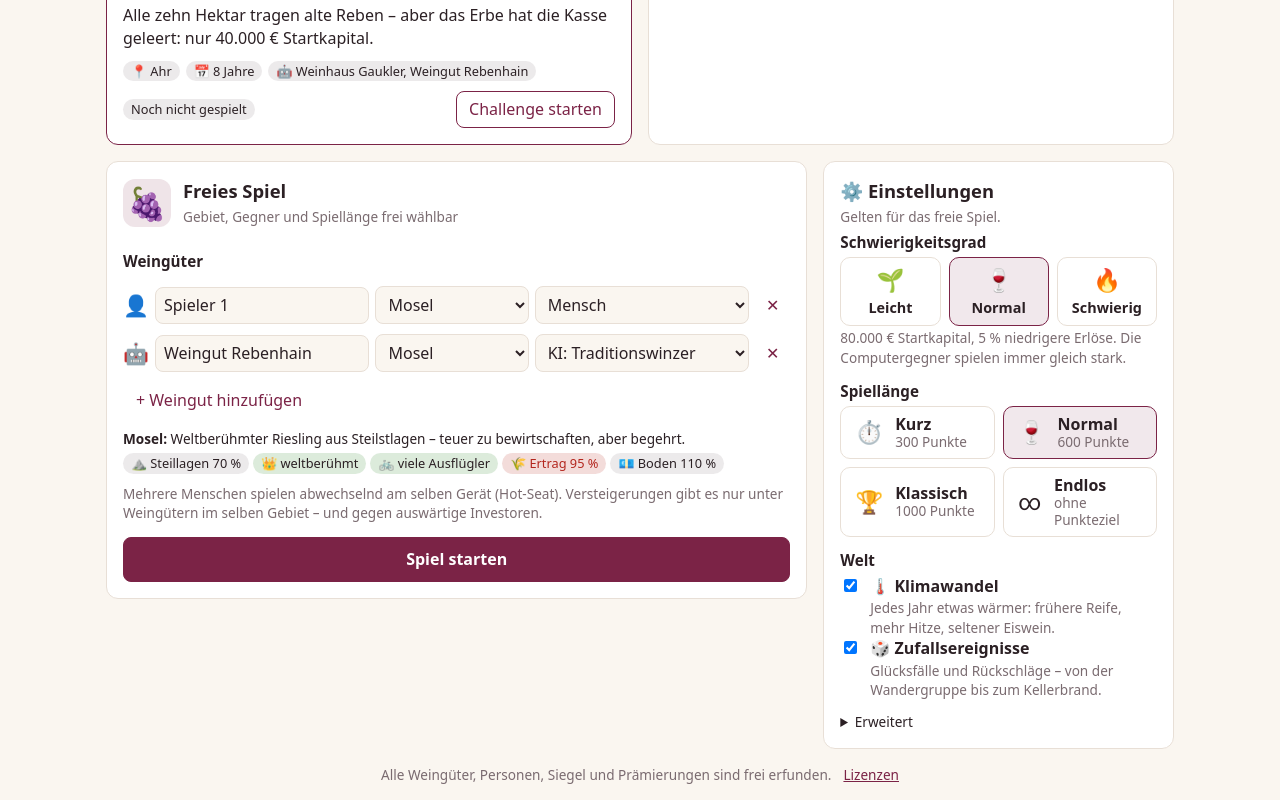
Scenario: Bedienung › Aktionen im Spiel verändern den Spielstand
(page scrolled)
Click the button "Spiel starten" at (457, 560), box [123, 537, 790, 582]
(page scrolled)
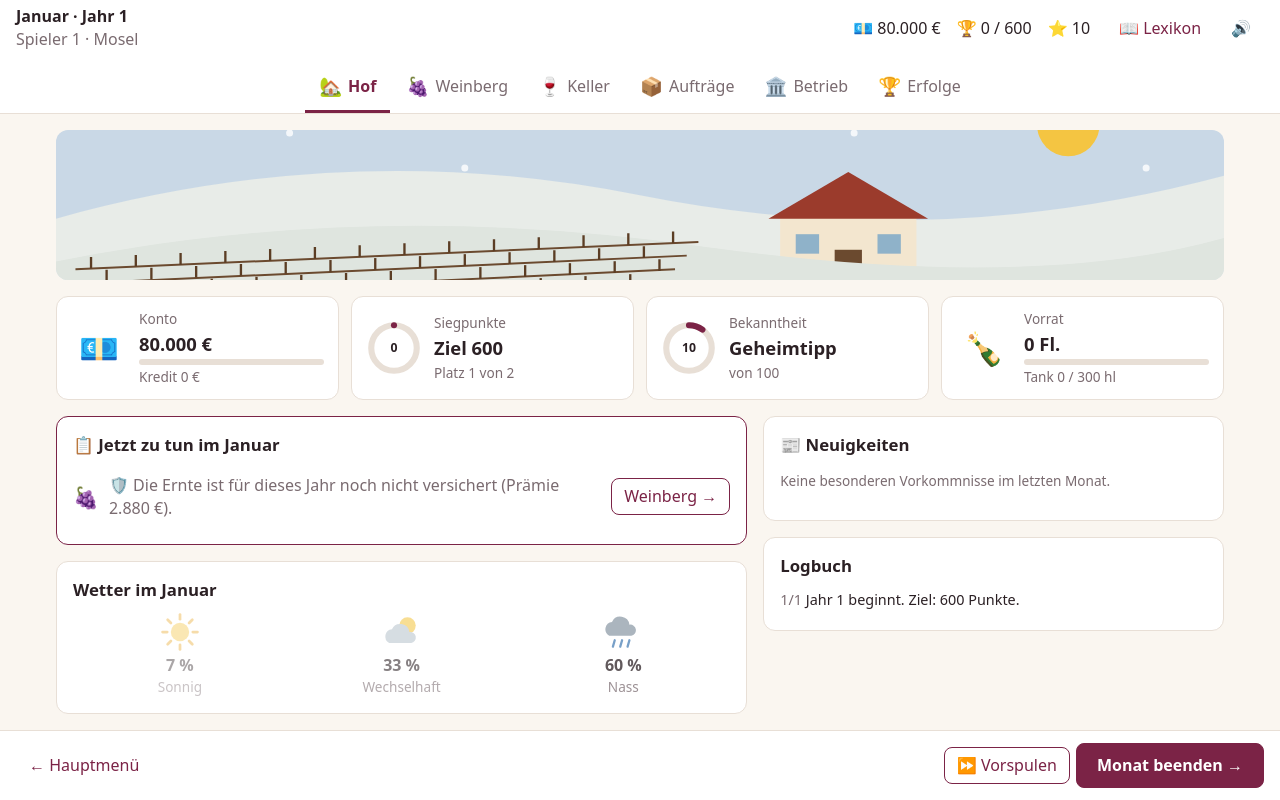
Click the tab "🏛️ Betrieb" at (806, 88), box [750, 63, 862, 113]
(page scrolled)
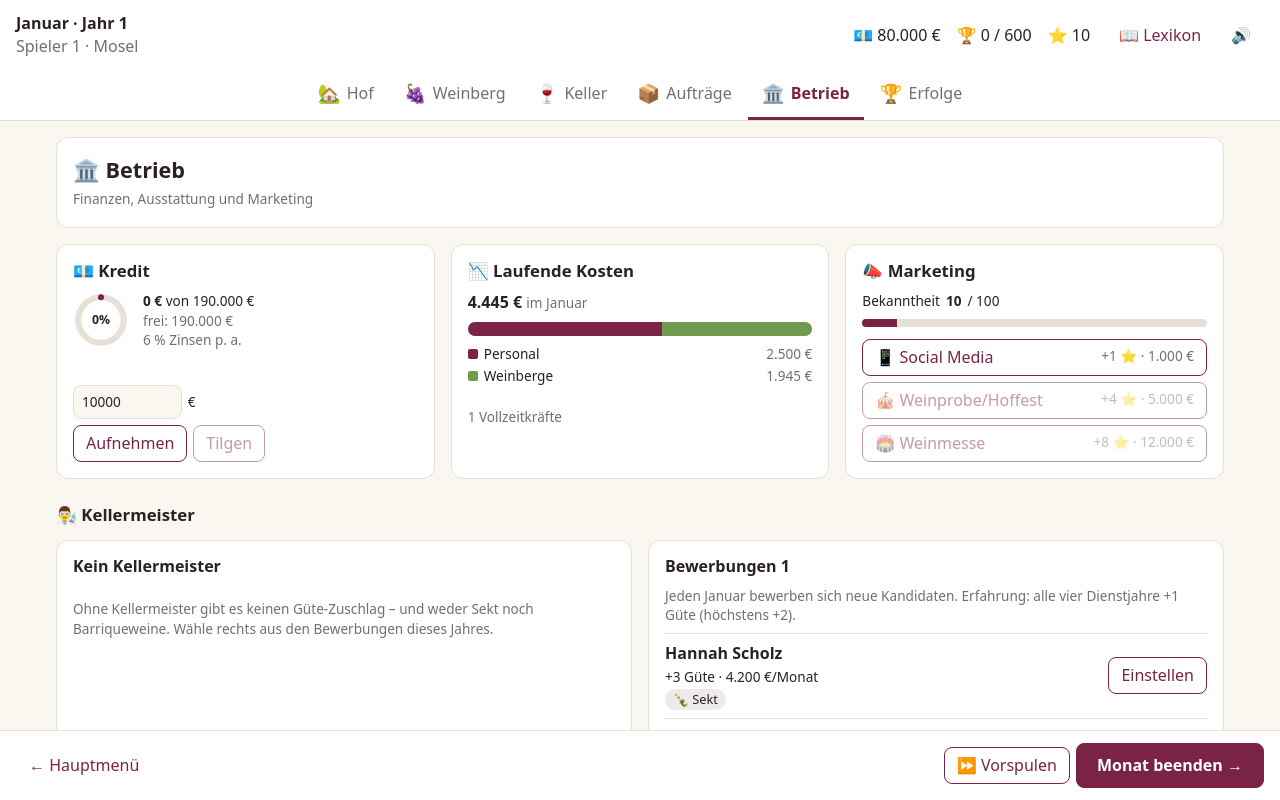
Click the button "📱 Social Media +1 ⭐ · 1.000 €" at (934, 357), box [862, 339, 1207, 376]
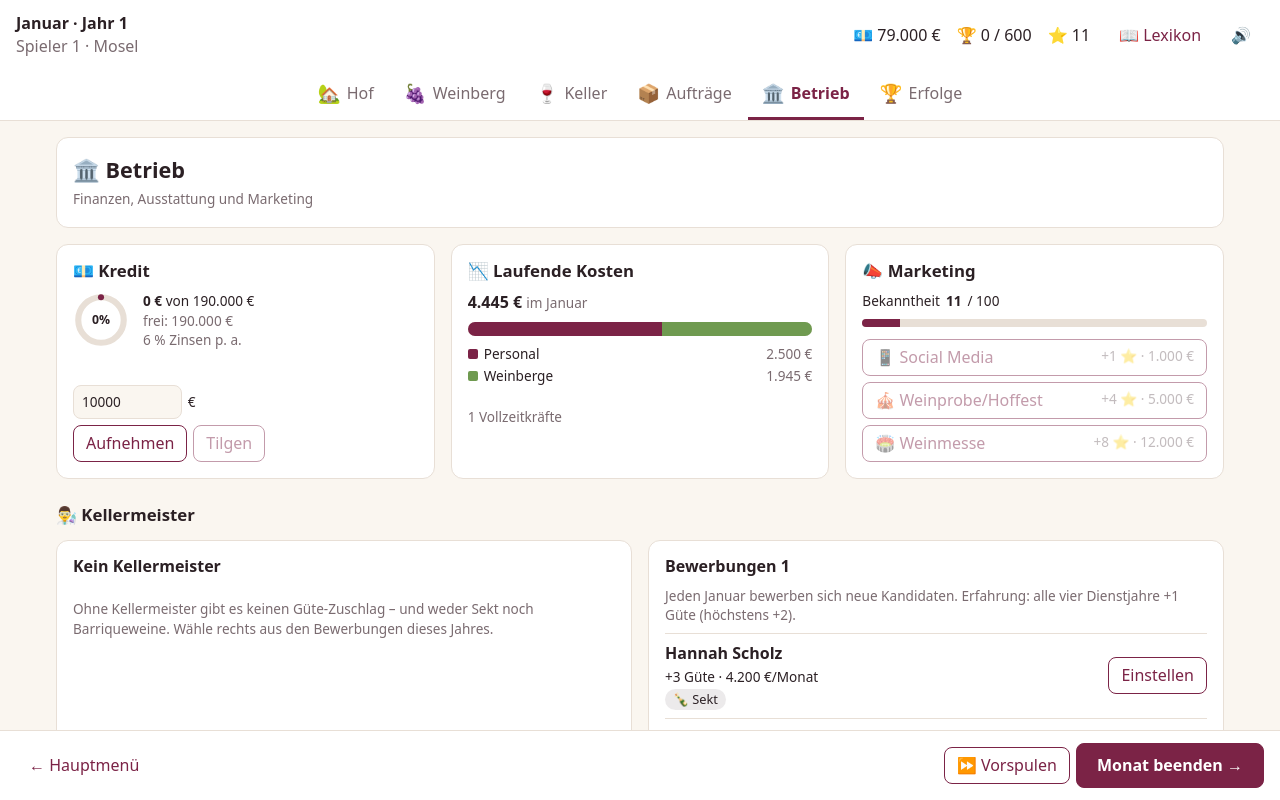
Click the tab "🏡 Hof" at (346, 95), box [304, 70, 388, 120]
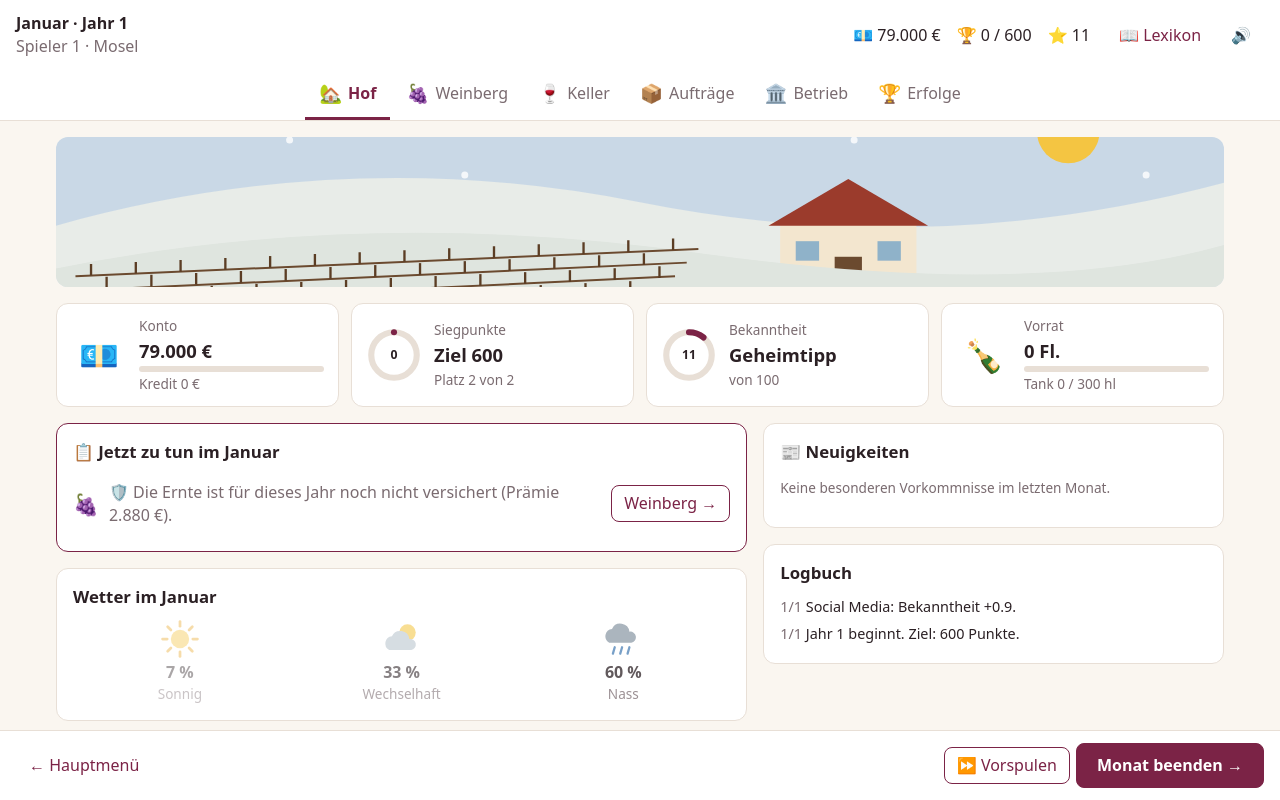
Check: the text "Social Media: Bekanntheit +" is shown, box [802, 597, 1016, 616]
